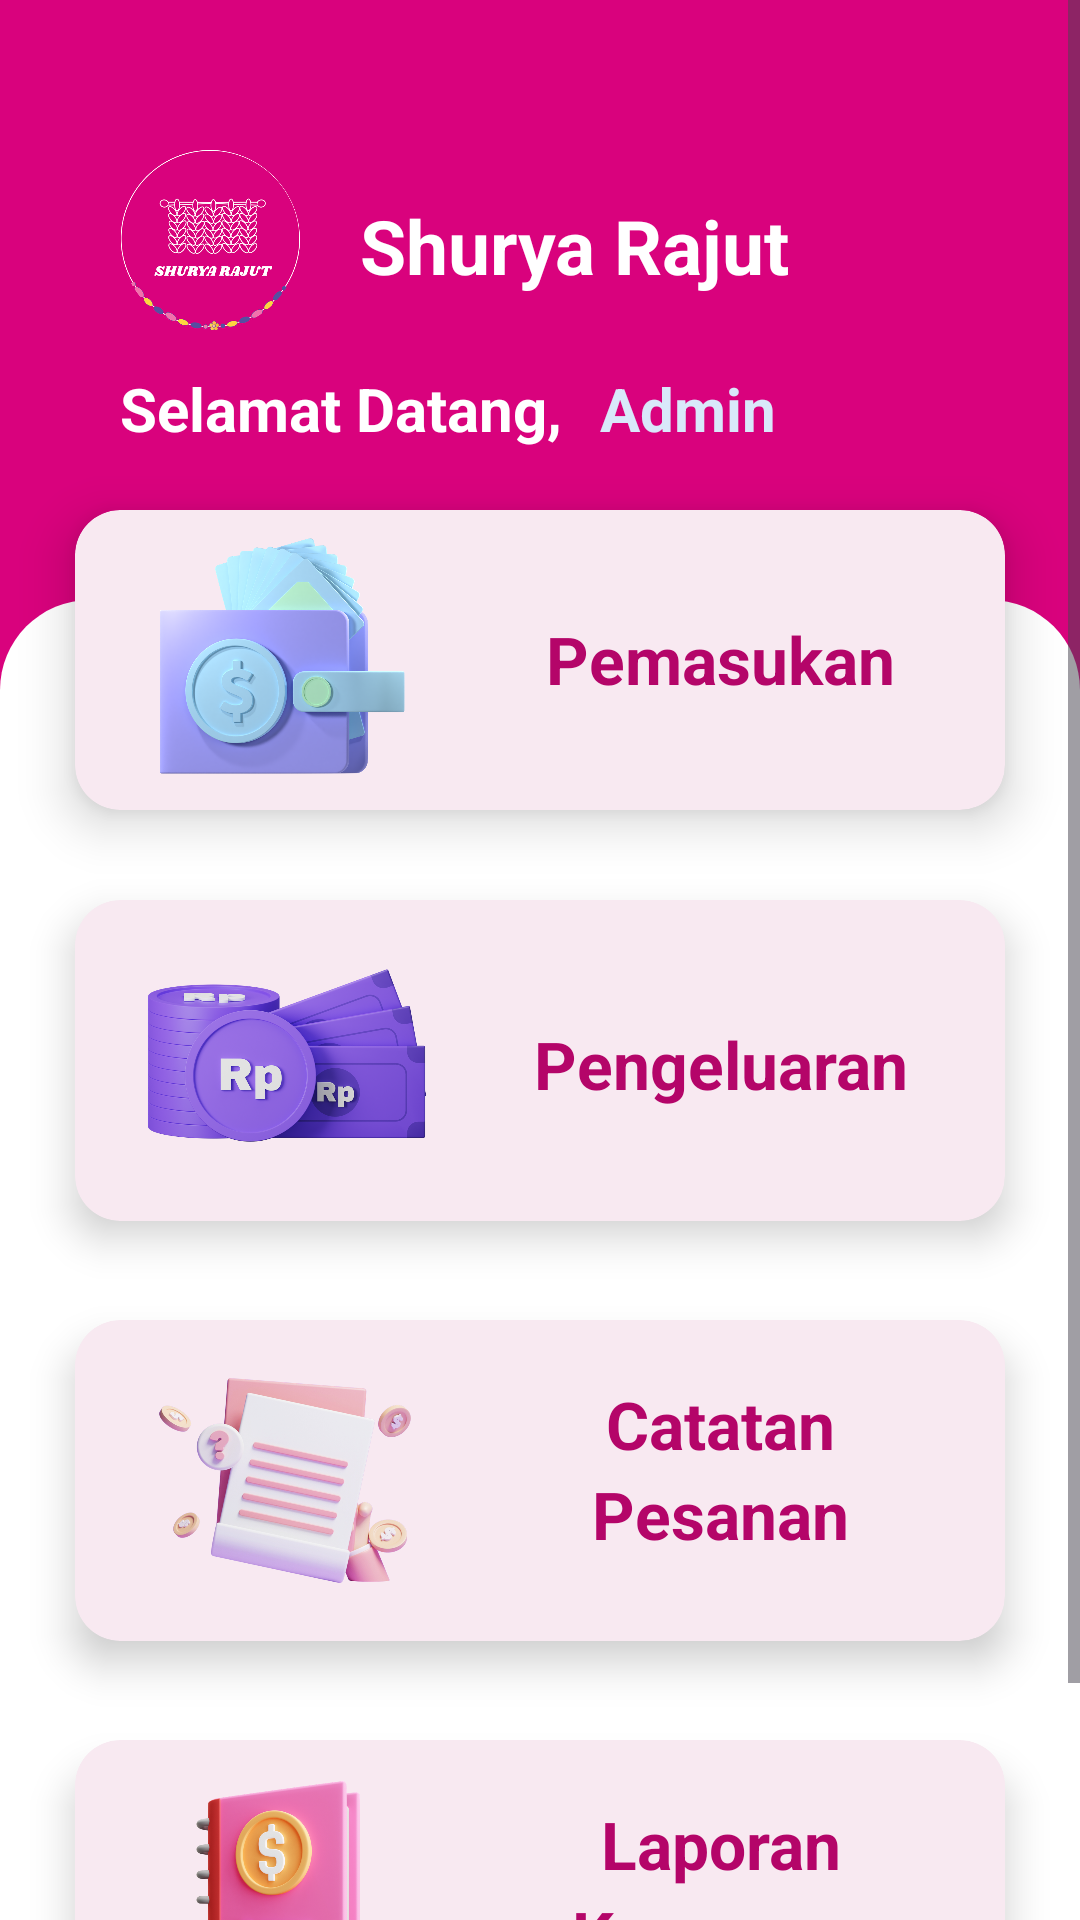

Named icons in this screenshot (1080w x 1920h) and their bounding boxes, box=[x1, y1, x2, y2]:
document: box=[159, 1378, 411, 1583]
moneyrp: box=[148, 969, 426, 1142]
walletmoney: box=[160, 538, 405, 774]
